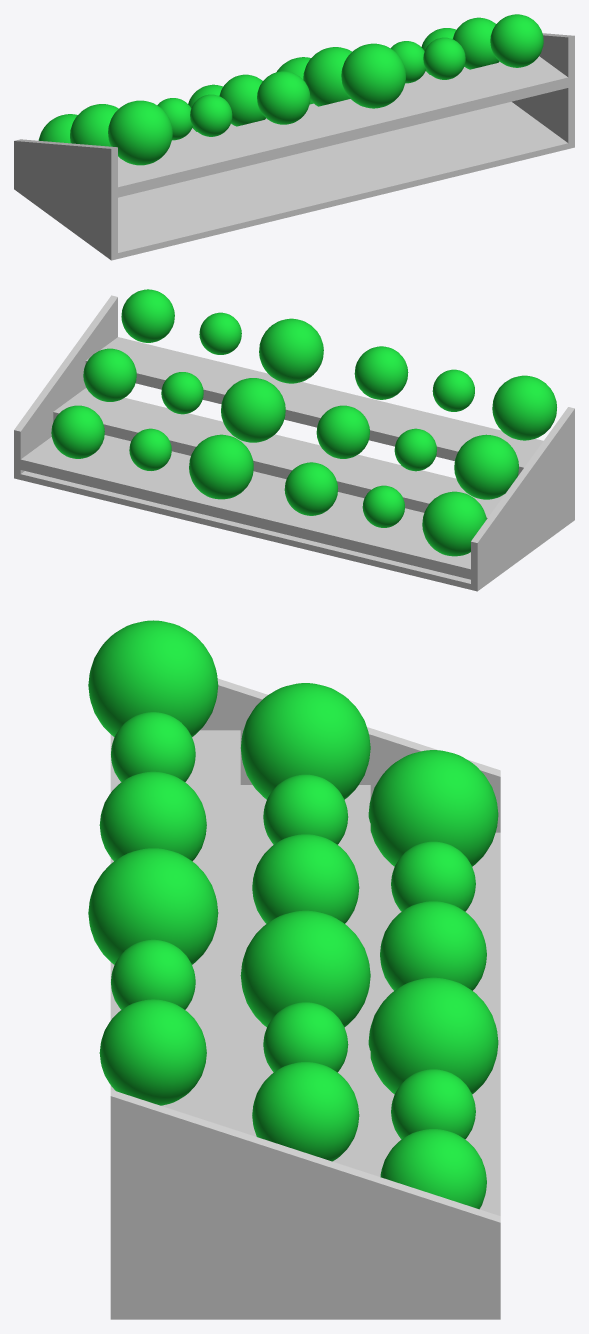
Rendered from SpectatorStandsPlaceholder.fbx.
3 renders of one model, top to bottom at view 1: azimuth 30°, elevation 25°; view 2: azimuth 150°, elevation 25°; view 3: azimuth 270°, elevation 25°, orthographic. The views are drawn at different scales.
Visible parts, largest first — view 1: Stands, Greeble.012, Greeble.003, Greeble.005, Greeble.014, Greeble.009, Greeble.002, Greeble.011, Greeble, Greeble.004, Greeble.013, Greeble.001 (+5 smaller); view 2: Stands, Greeble.012, Greeble.003, Greeble.009, Greeble.015, Greeble, Greeble.006, Greeble.011, Greeble.017, Greeble.014, Greeble.005, Greeble.008 (+7 smaller); view 3: Stands, Greeble.012, Greeble.006, Greeble, Greeble.003, Greeble.009, Greeble.015, Greeble.014, Greeble.011, Greeble.005, Greeble.002, Greeble.008 (+7 smaller).
Boxes of the visible parts, x1,y1,x2,y2 form: Stands: [14, 33, 574, 260]; Greeble.012: [341, 43, 405, 108]; Greeble.003: [108, 100, 172, 165]; Greeble.005: [257, 71, 310, 124]; Greeble.014: [490, 14, 543, 67]; Greeble.009: [303, 47, 351, 106]; Greeble.002: [219, 74, 265, 126]; Greeble.011: [453, 17, 499, 69]; Greeble: [70, 104, 118, 146]; Greeble.004: [190, 94, 232, 136]; Greeble.013: [423, 37, 465, 79]; Greeble.001: [157, 98, 192, 140]; Stands: [14, 295, 574, 591]; Greeble.012: [259, 318, 323, 383]; Greeble.003: [492, 375, 556, 440]; Greeble.009: [221, 378, 285, 442]; Greeble.015: [189, 434, 253, 499]; Greeble: [454, 434, 518, 499]; Greeble.006: [422, 491, 486, 556]; Greeble.011: [83, 348, 136, 401]; Greeble.017: [51, 405, 104, 458]; Greeble.014: [121, 289, 174, 342]; Greeble.005: [354, 346, 408, 399]; Greeble.008: [284, 462, 337, 515]; Stands: [110, 678, 500, 1319]; Greeble.012: [88, 848, 218, 964]; Greeble.006: [368, 750, 498, 866]; Greeble: [240, 683, 370, 799]; Greeble.003: [88, 620, 218, 736]; Greeble.009: [240, 910, 370, 1027]; Greeble.015: [368, 977, 498, 1094]; Greeble.014: [99, 999, 206, 1105]; Greeble.011: [252, 1062, 359, 1161]; Greeble.005: [99, 771, 206, 861]; Greeble.002: [252, 834, 359, 923]; Greeble.008: [380, 901, 486, 990].
Bounding box in the file's own units: 16.48 × 4.74 × 6.35.
